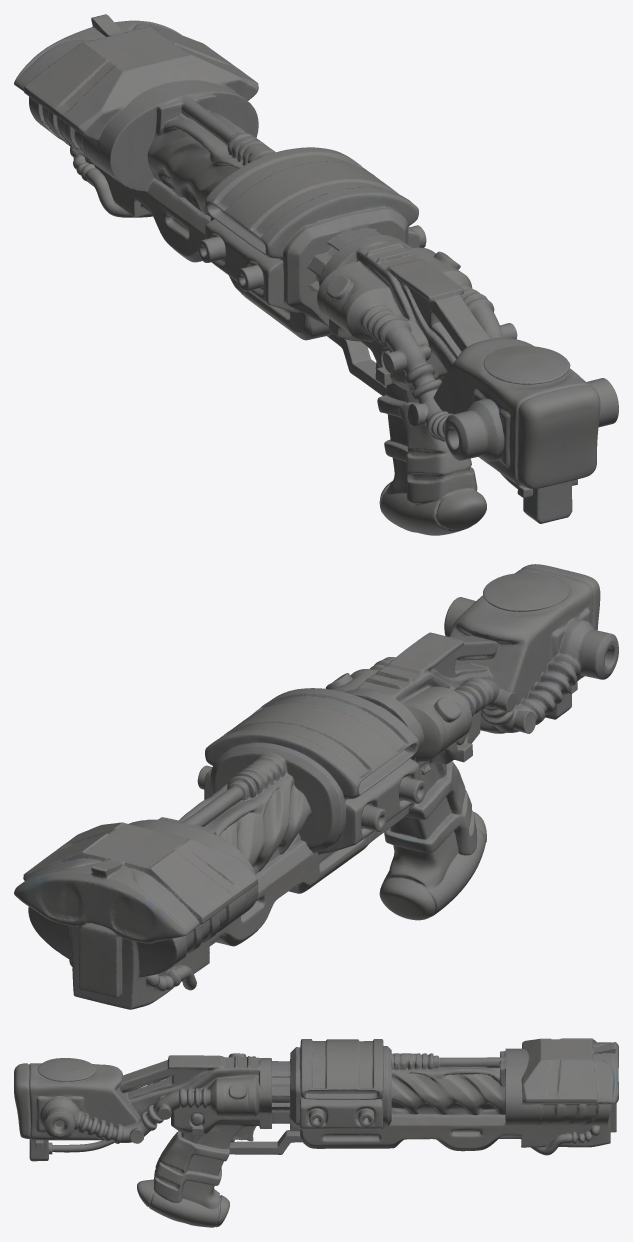
File: gun_drop.fbx
3 renders of one model, top to bottom at view 1: azimuth 30°, elevation 25°; view 2: azimuth 150°, elevation 25°; view 3: azimuth 270°, elevation 25°, orthographic. The views are drawn at different scales.
Visible parts, largest first — view 1: tripo_node_1544a874; view 2: tripo_node_1544a874; view 3: tripo_node_1544a874.
Part boxes in pixels (x1=…): tripo_node_1544a874: x1=14, y1=14, x2=618, y2=535; tripo_node_1544a874: x1=14, y1=564, x2=618, y2=1009; tripo_node_1544a874: x1=14, y1=1038, x2=618, y2=1227.
Size of the model in its own units: 0.2207 by 0.3261 by 1.
Materials: 1 (1 with a texture image).
